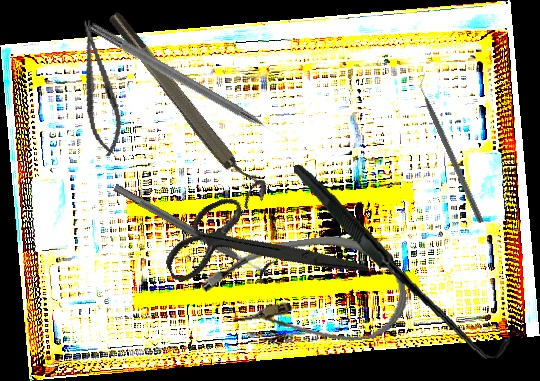Cannula: (197, 226, 412, 361)
Chopper: (413, 71, 492, 225)
Fixation Ring: (104, 2, 273, 211), (108, 174, 278, 286)
Hook Surgical: (293, 148, 512, 374), (86, 21, 291, 146)
Iris Scissors: (151, 156, 370, 345)
Needle Holder: (70, 17, 129, 159)
